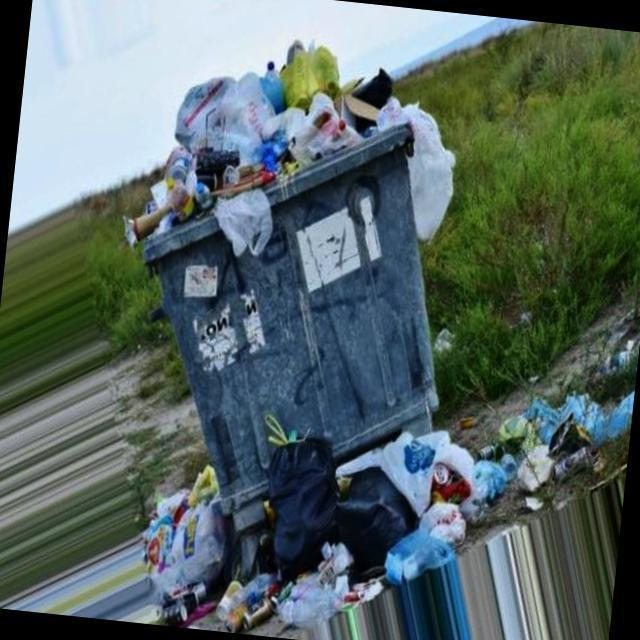garbage: (130, 407, 627, 640), (97, 18, 473, 286), (488, 356, 636, 456), (604, 334, 640, 380), (426, 322, 461, 357)
